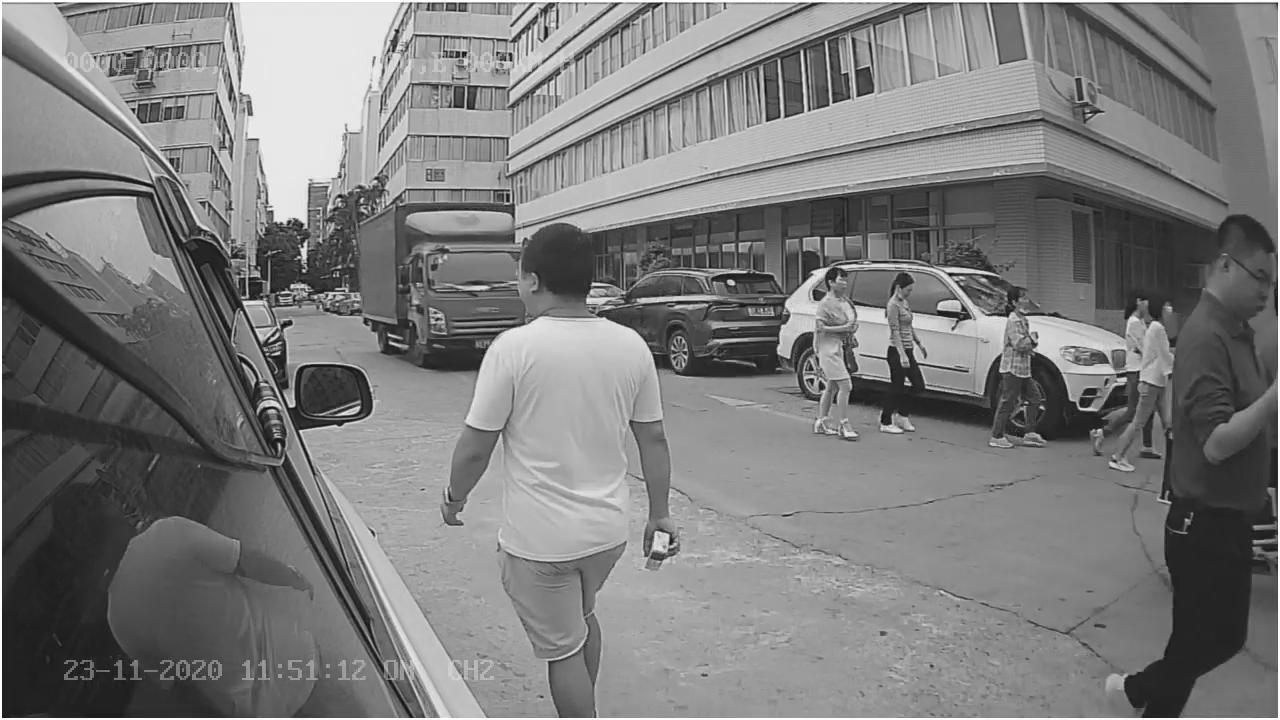person: (786, 268, 864, 440), (981, 280, 1047, 453)
